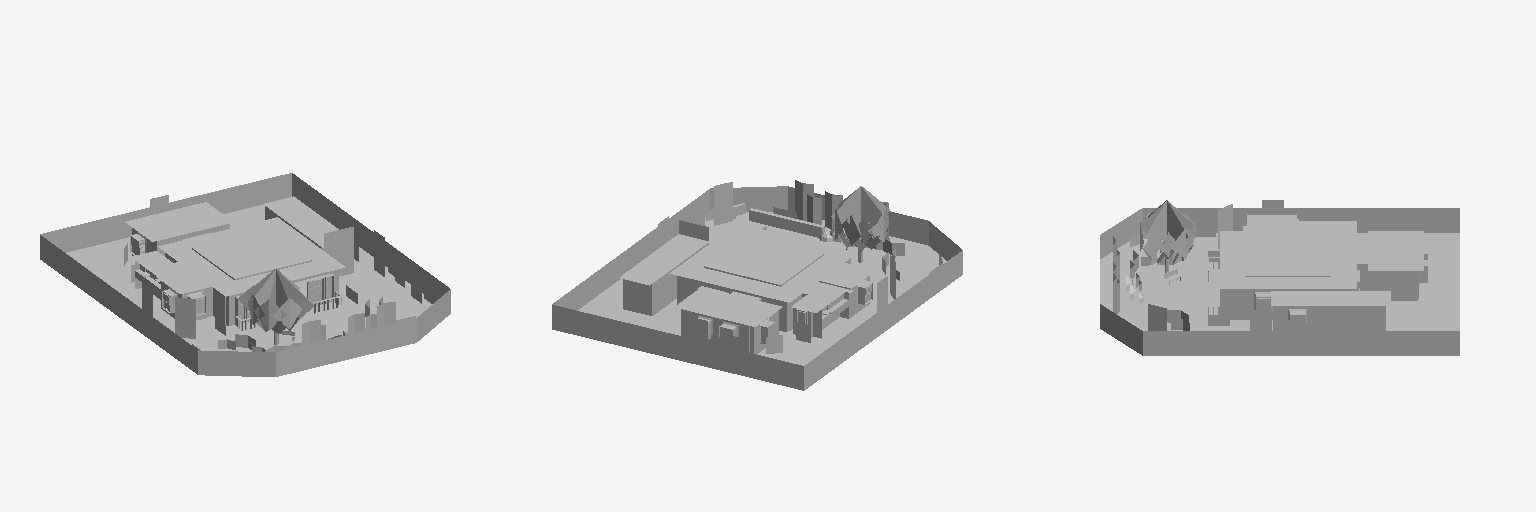
Rendered from F2_Room_Norse.obj.
3 renders of one model, left to right at view 1: azimuth 30°, elevation 25°; view 2: azimuth 150°, elevation 25°; view 3: azimuth 270°, elevation 25°, orthographic.
Visible parts, largest first — view 1: vsn_mesh_0_BG_mesh_0_BG, vsn_mesh_18_Tenjyou_01_mesh_18_Tenjyou_01, vsn_mesh_5_Shiba_gp_mesh_5_Shiba_gp, vsn_mesh_9_polySurface978_mesh_9_polySurface978, vsn_mesh_17_polySurface1237_mesh_17_polySurface1237, vsn_mesh_1_Bench_mesh_1_Bench; view 2: vsn_mesh_0_BG_mesh_0_BG, vsn_mesh_18_Tenjyou_01_mesh_18_Tenjyou_01, vsn_mesh_5_Shiba_gp_mesh_5_Shiba_gp, vsn_mesh_9_polySurface978_mesh_9_polySurface978, vsn_mesh_2_Block_Kabe_mesh_2_Block_Kabe, vsn_mesh_17_polySurface1237_mesh_17_polySurface1237; view 3: vsn_mesh_0_BG_mesh_0_BG, vsn_mesh_18_Tenjyou_01_mesh_18_Tenjyou_01, vsn_mesh_5_Shiba_gp_mesh_5_Shiba_gp, vsn_mesh_9_polySurface978_mesh_9_polySurface978, vsn_mesh_3_miti_ishi2_mesh_3_miti_ishi2, vsn_mesh_4_polySurface939_mesh_4_polySurface939, vsn_mesh_1_Bench_mesh_1_Bench, vsn_mesh_17_polySurface1237_mesh_17_polySurface1237.
Part boxes in pixels (x1,y1,x2,y2): vsn_mesh_0_BG_mesh_0_BG: (40,173,450,376); vsn_mesh_18_Tenjyou_01_mesh_18_Tenjyou_01: (125,196,353,296); vsn_mesh_5_Shiba_gp_mesh_5_Shiba_gp: (66,205,432,351); vsn_mesh_9_polySurface978_mesh_9_polySurface978: (132,206,338,325); vsn_mesh_17_polySurface1237_mesh_17_polySurface1237: (130,232,333,325); vsn_mesh_1_Bench_mesh_1_Bench: (236,291,341,345); vsn_mesh_0_BG_mesh_0_BG: (552,180,962,390); vsn_mesh_18_Tenjyou_01_mesh_18_Tenjyou_01: (619,220,876,326); vsn_mesh_5_Shiba_gp_mesh_5_Shiba_gp: (578,212,946,365); vsn_mesh_9_polySurface978_mesh_9_polySurface978: (623,243,869,353); vsn_mesh_2_Block_Kabe_mesh_2_Block_Kabe: (749,208,824,237); vsn_mesh_17_polySurface1237_mesh_17_polySurface1237: (697,279,872,344); vsn_mesh_0_BG_mesh_0_BG: (1100,200,1459,355); vsn_mesh_18_Tenjyou_01_mesh_18_Tenjyou_01: (1220,215,1423,305); vsn_mesh_5_Shiba_gp_mesh_5_Shiba_gp: (1100,233,1459,330); vsn_mesh_9_polySurface978_mesh_9_polySurface978: (1225,264,1418,330); vsn_mesh_3_miti_ishi2_mesh_3_miti_ishi2: (1140,264,1207,330); vsn_mesh_4_polySurface939_mesh_4_polySurface939: (1148,264,1207,293); vsn_mesh_1_Bench_mesh_1_Bench: (1160,236,1219,314); vsn_mesh_17_polySurface1237_mesh_17_polySurface1237: (1220,226,1427,330).
Size of the model in its own units: 170 by 49.18 by 210.